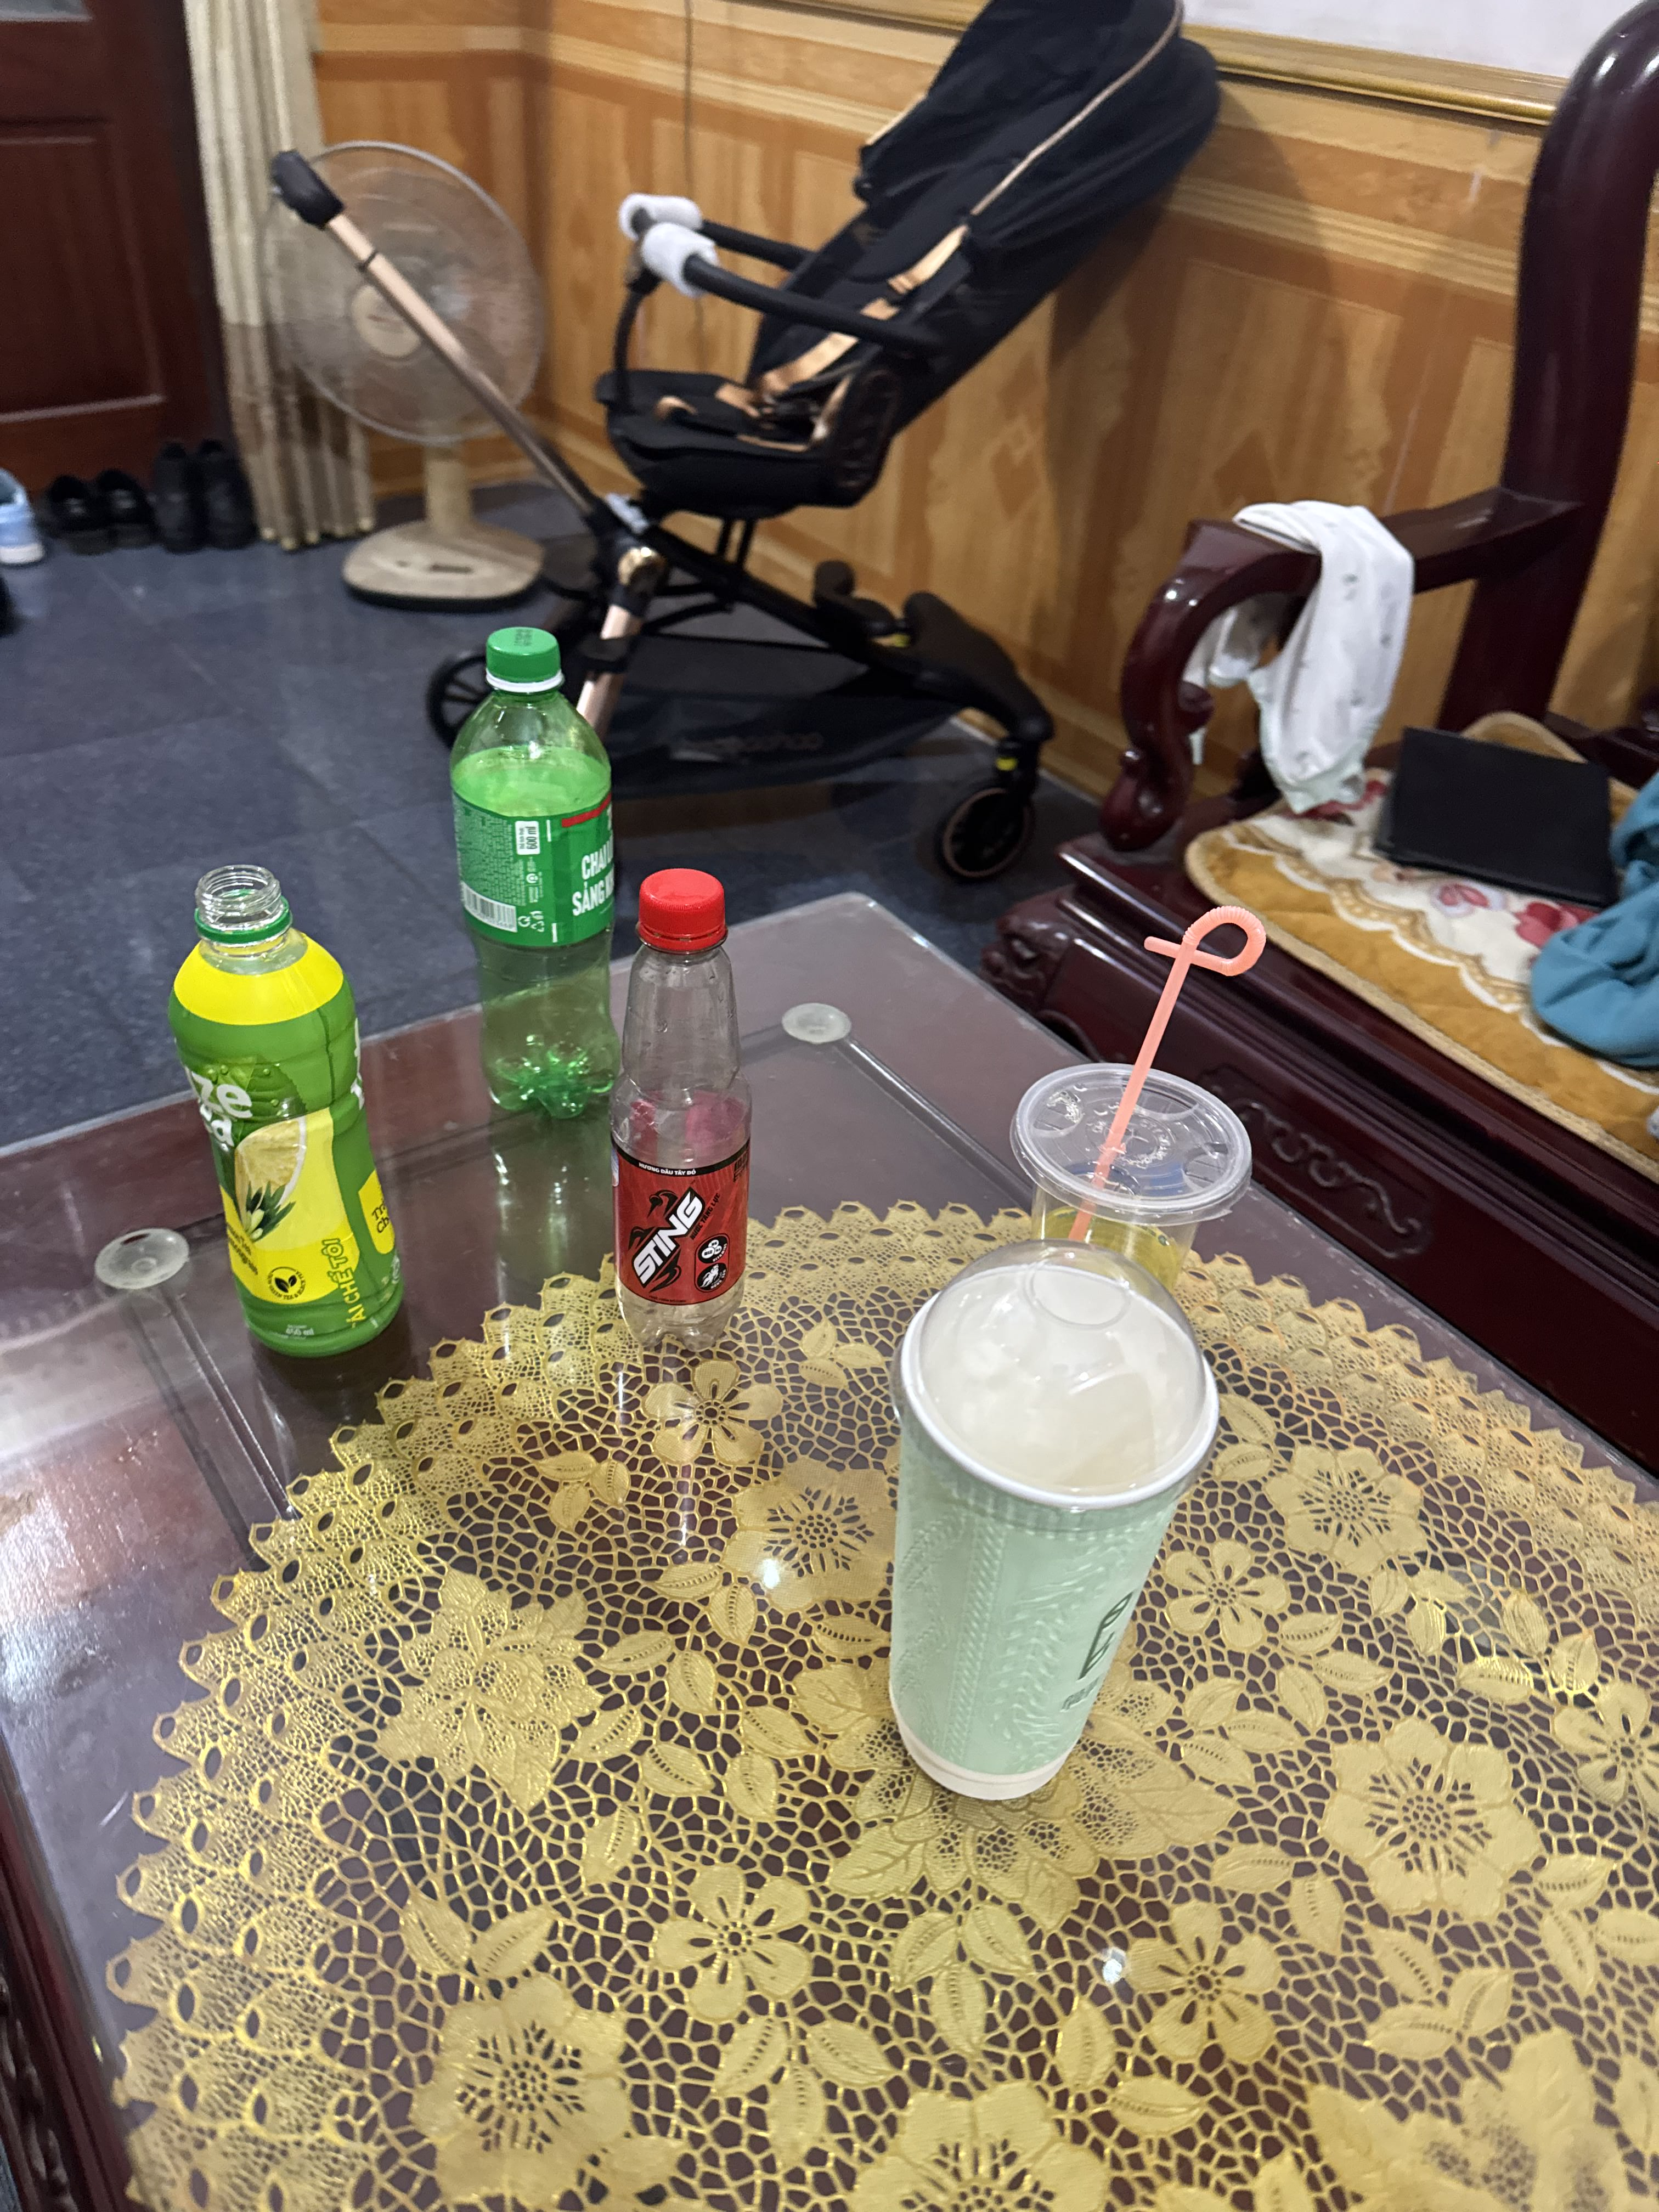2: (866, 1226, 1269, 1844), (992, 1038, 1269, 1336)
bottle: (146, 840, 448, 1367), (422, 603, 657, 1125), (580, 853, 782, 1383)
